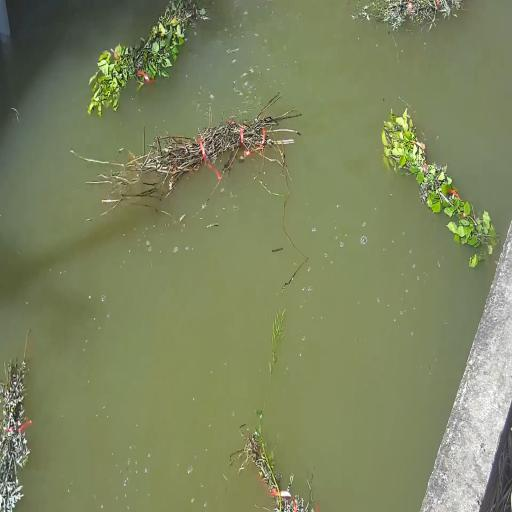twig: (80, 93, 300, 209), (381, 109, 498, 254), (87, 0, 204, 116), (243, 425, 314, 512), (0, 356, 32, 512), (352, 0, 463, 30), (273, 318, 282, 346)
